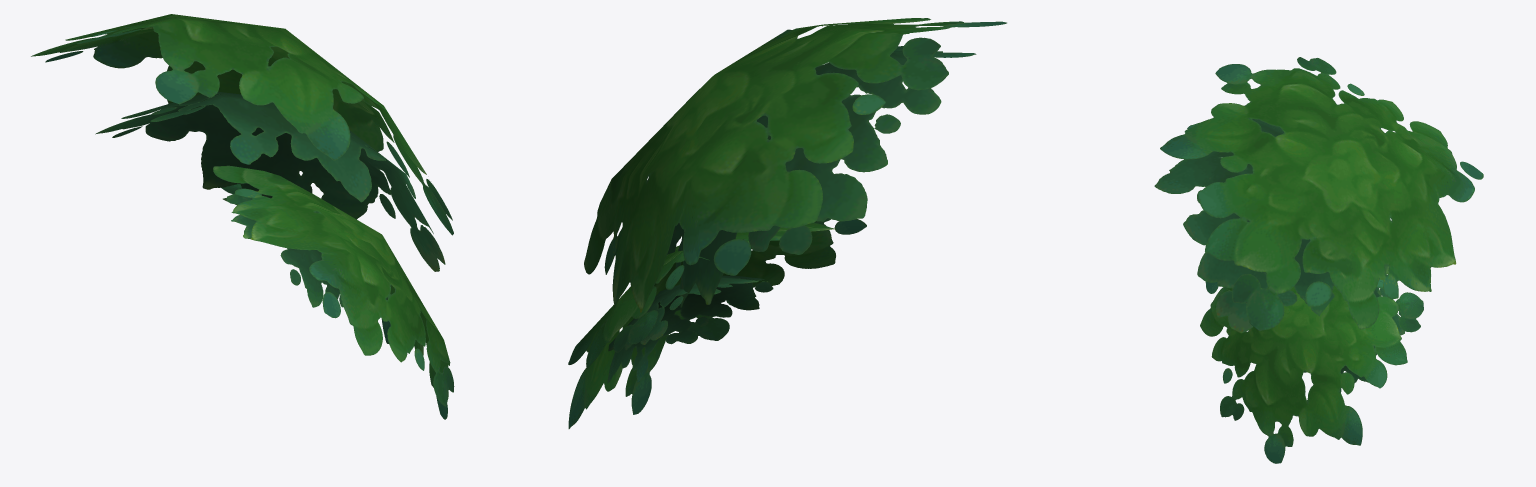
File: ZJM_Sy02.FBX
The picture shows the model from 3 angles, left to right: view 1: azimuth 30°, elevation 25°; view 2: azimuth 150°, elevation 25°; view 3: azimuth 270°, elevation 25°; orthographic projection. The views are drawn at different scales.
Visible parts, largest first — view 1: ZJM_shuye02; view 2: ZJM_shuye02; view 3: ZJM_shuye02.
Boxes of the visible parts, <box> form: ZJM_shuye02: <box>31,14,454,419</box>; ZJM_shuye02: <box>568,18,1006,428</box>; ZJM_shuye02: <box>1154,57,1483,463</box>.
Size of the model in its own units: 5.79 by 7.09 by 5.93.
1 material, 1 textured.
